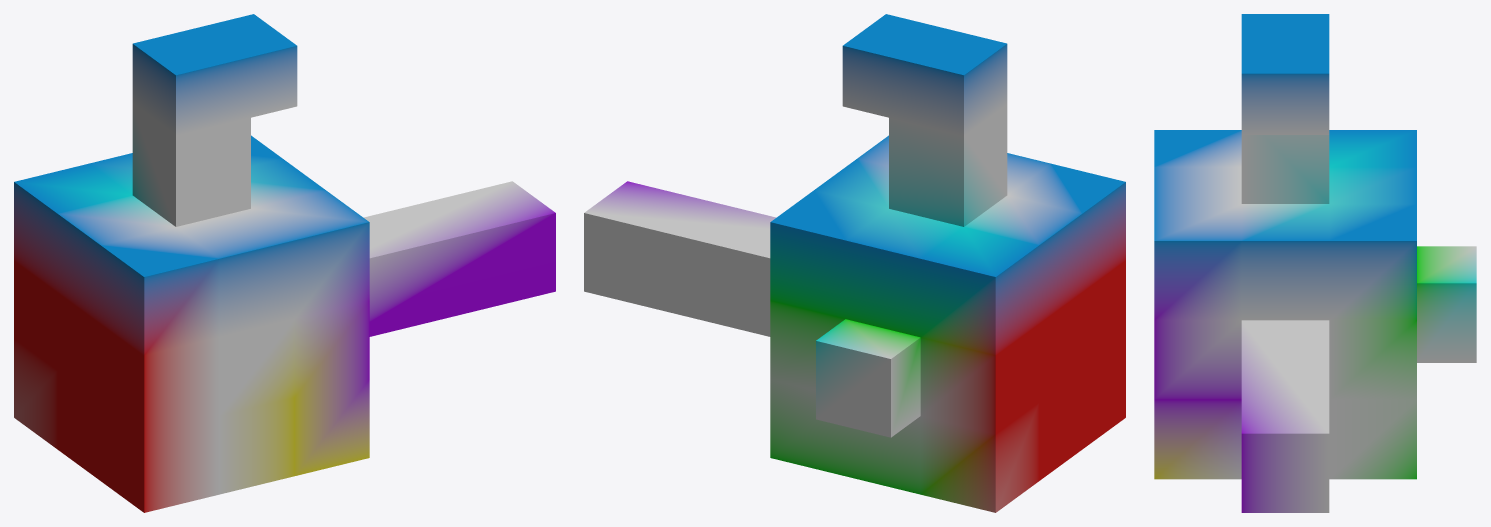
The model's file is testcube.obj.
3 renders of one model, left to right at view 1: azimuth 30°, elevation 25°; view 2: azimuth 150°, elevation 25°; view 3: azimuth 270°, elevation 25°, orthographic.
Parts seen in each view (by area): view 1: Cube; view 2: Cube; view 3: Cube.
Boxes of the visible parts, left/top/right/bottom form: Cube: left=14, top=14, right=555, bottom=512; Cube: left=584, top=14, right=1125, bottom=512; Cube: left=1154, top=14, right=1476, bottom=512.
Bounding box in the file's own units: 0.4039 × 0.3286 × 0.2456.
